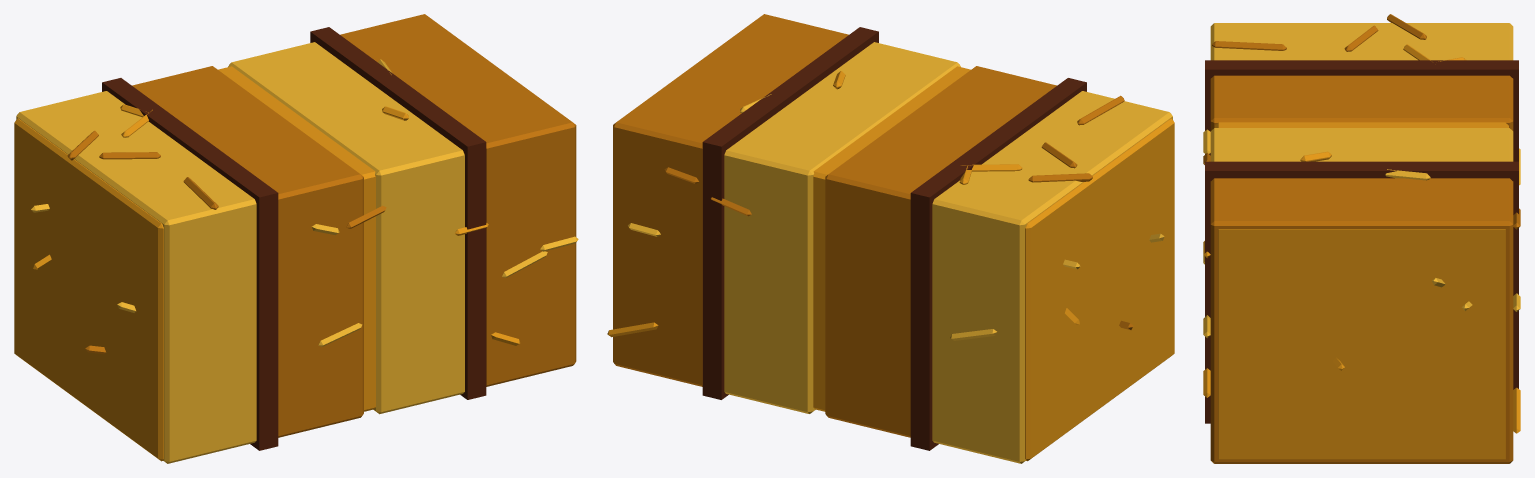
Rendered from myw_haybale.obj.
3 views of the same model, side by side, from view 1: azimuth 30°, elevation 25°; view 2: azimuth 150°, elevation 25°; view 3: azimuth 270°, elevation 25° (orthographic).
Visible parts, largest first — view 1: Hay, Twine; view 2: Hay, Twine; view 3: Hay, Twine.
Part boxes in pixels (x1,y1,x2,y2): Hay: (14, 14, 578, 463); Twine: (102, 27, 486, 450); Hay: (607, 14, 1174, 463); Twine: (702, 27, 1086, 450); Hay: (1203, 14, 1520, 463); Twine: (1205, 60, 1518, 423).
Bounding box in the file's own units: 4.74 × 2.56 × 2.91.
